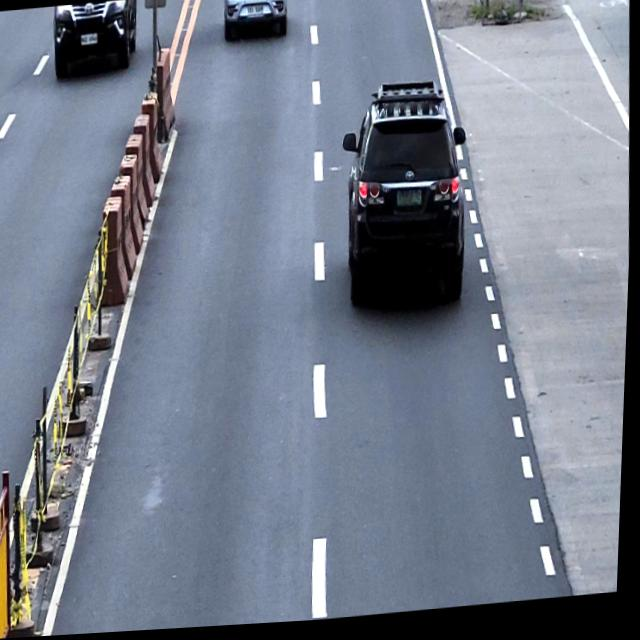Car: (338, 80, 476, 320), (50, 0, 140, 78), (220, 0, 291, 47)
License-Plate: (397, 191, 424, 213), (246, 7, 264, 21), (80, 33, 99, 45)
